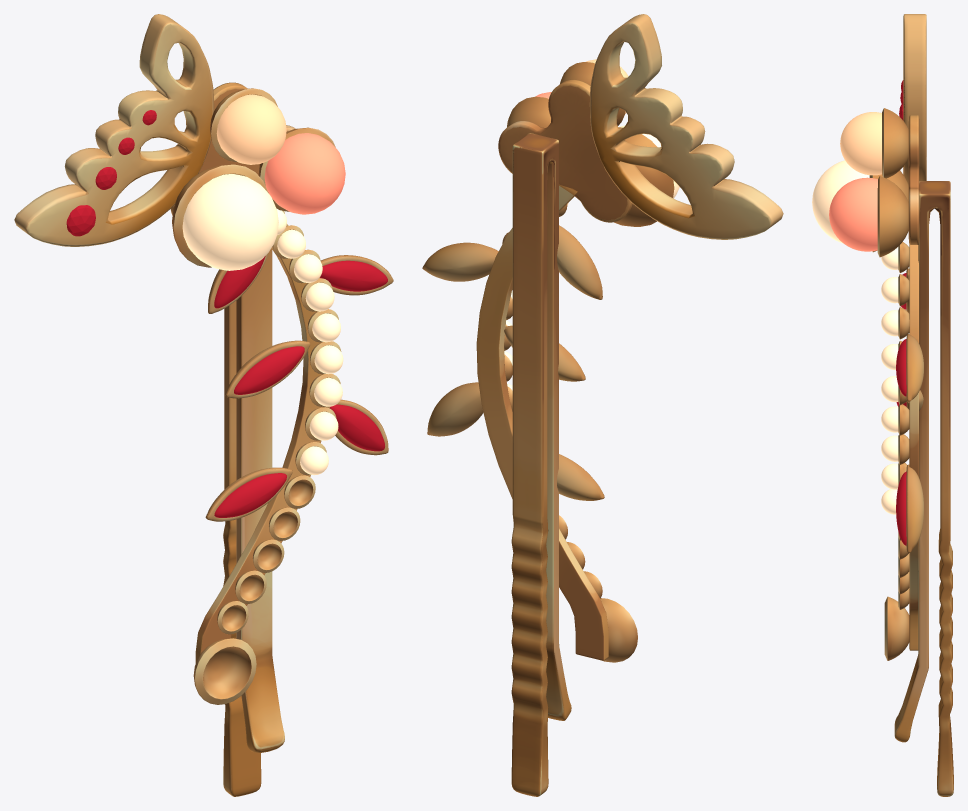
The picture shows the model from 3 angles, left to right: view 1: azimuth 30°, elevation 25°; view 2: azimuth 150°, elevation 25°; view 3: azimuth 270°, elevation 25°; orthographic projection. The views are drawn at different scales.
Visible parts, largest first — view 1: hairakuse; view 2: hairakuse; view 3: hairakuse.
Boxes of the visible parts, x1=… form: hairakuse: x1=14, y1=14, x2=393, y2=796; hairakuse: x1=422, y1=14, x2=783, y2=796; hairakuse: x1=812, y1=14, x2=953, y2=796.
Bounding box in the file's own units: 72.64 × 152 × 26.6.
